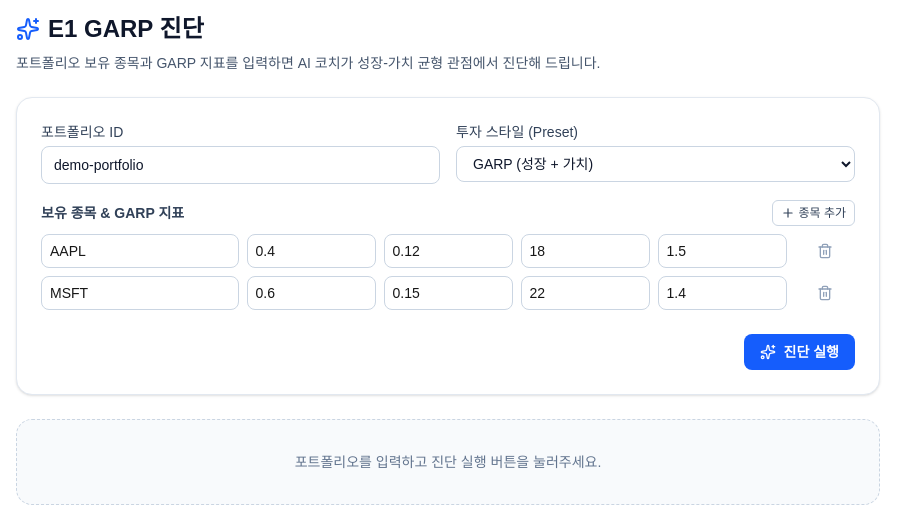
it: E1 coach page — a11y + 폼 검증 보강 › a11y: 에러 시 role=alert (스크린리더가 즉시 읽음)
This screenshot has width=897, height=522.
Click the button "진단 실행" at (799, 352), box top-left (744, 334), bottom-right (855, 370)
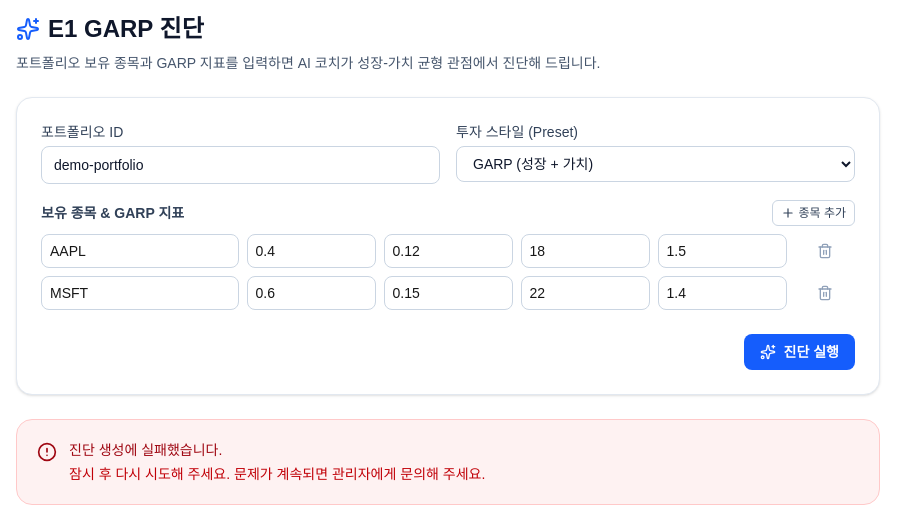
expect the message "진단 생성에 실패했습니다. 잠시 후 다시 시도해 주세요. 문제가 계속되면 관리자에게 문의해 주세요." is shown: met, box top-left (16, 419), bottom-right (880, 505)
